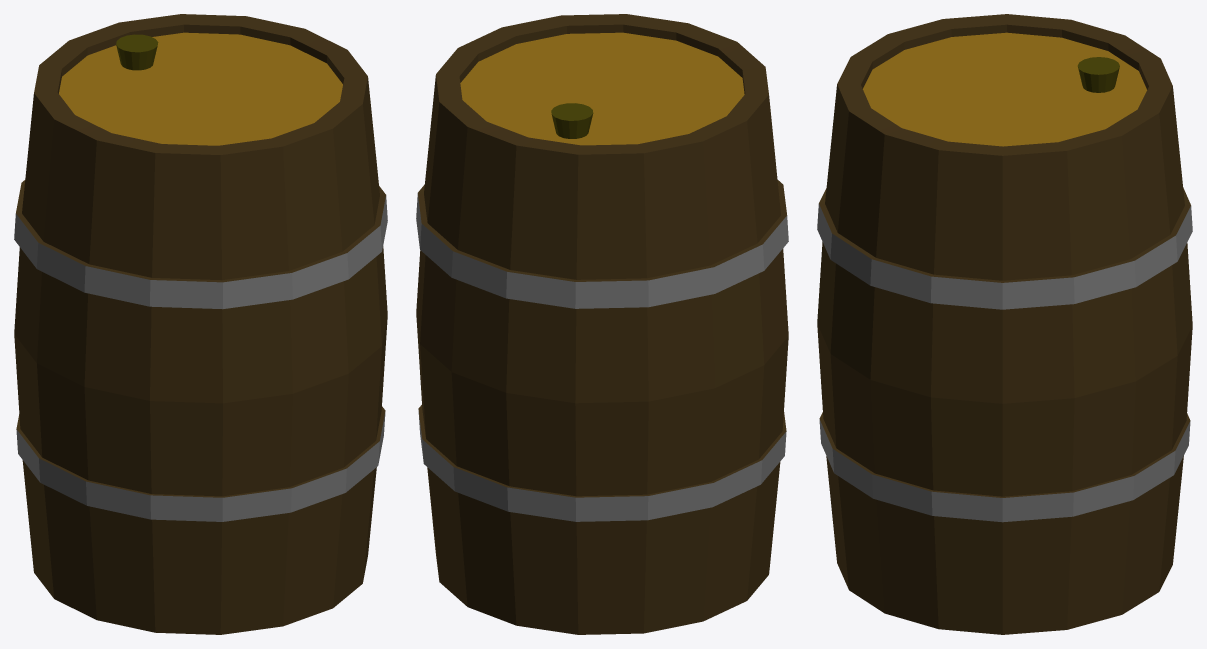
File: winebox.glb
3 views of the same model, side by side, from view 1: azimuth 30°, elevation 25°; view 2: azimuth 150°, elevation 25°; view 3: azimuth 270°, elevation 25° (orthographic).
Parts seen in each view (by area): view 1: Cylinder.002, Cylinder.004; view 2: Cylinder.002, Cylinder.004; view 3: Cylinder.002, Cylinder.004.
Boxes of the visible parts, left/top/right/bottom form: Cylinder.002: left=14, top=14, right=387, bottom=634; Cylinder.004: left=116, top=34, right=158, bottom=70; Cylinder.002: left=416, top=14, right=788, bottom=634; Cylinder.004: left=551, top=103, right=593, bottom=138; Cylinder.002: left=817, top=14, right=1192, bottom=634; Cylinder.004: left=1077, top=57, right=1119, bottom=92.
Size of the model in its own units: 0.8425 by 1.21 by 0.8425.
